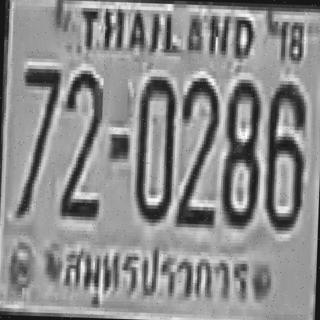N00: (135, 75, 177, 222)
N02: (174, 75, 218, 226), (61, 68, 105, 218)
N06: (264, 82, 306, 229)
N07: (18, 65, 60, 215)
N08: (220, 76, 260, 226)
P57: (58, 235, 254, 318)
